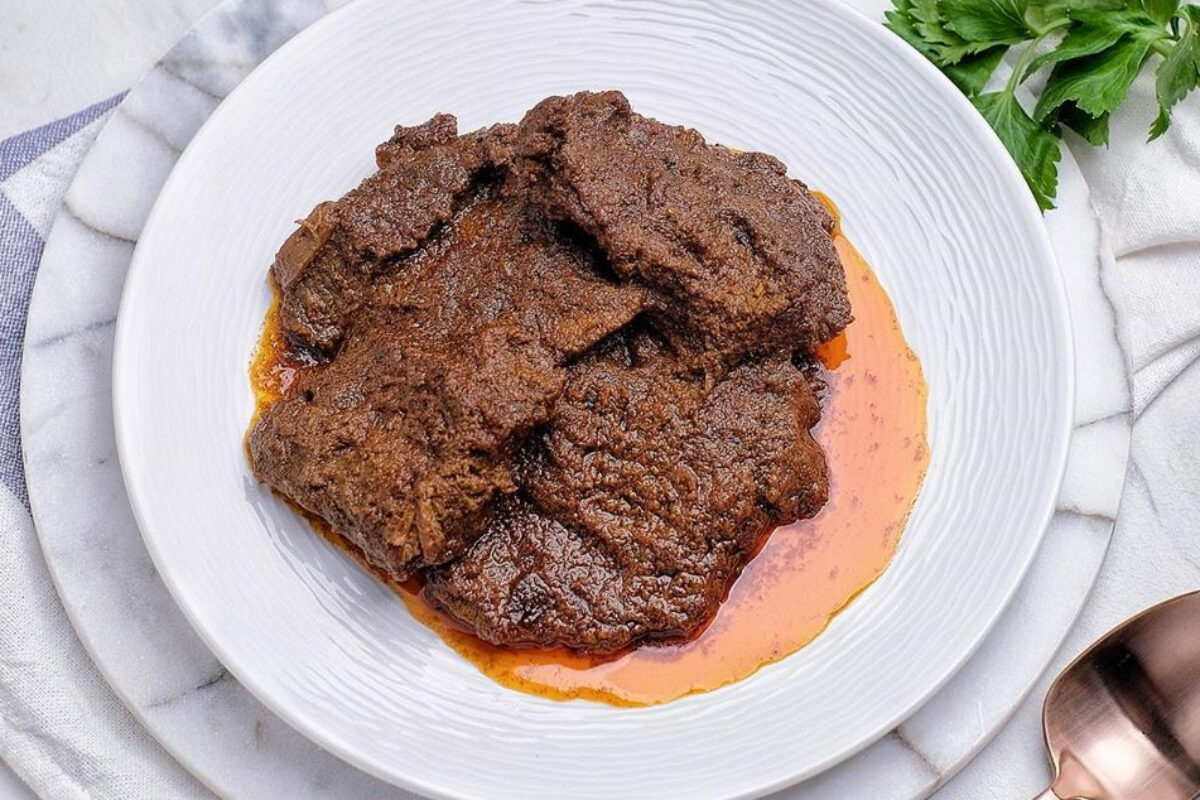Rendang: (241, 83, 858, 657)
